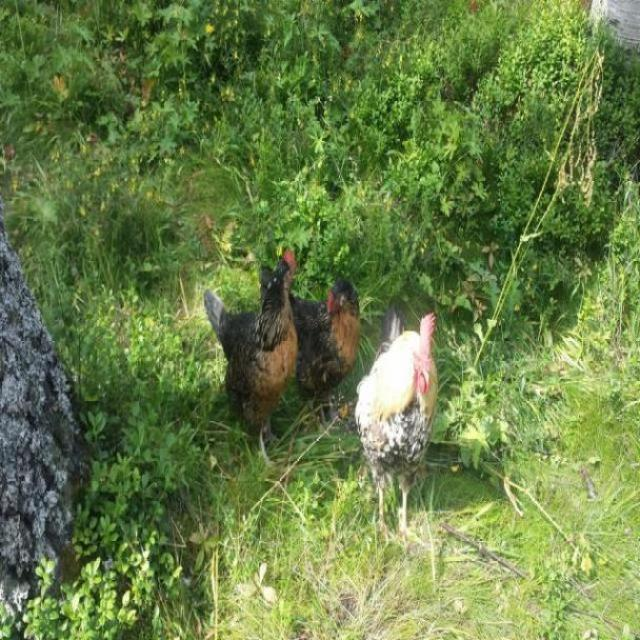Chicken: (353, 299, 443, 570), (204, 248, 300, 467), (259, 270, 366, 453)
